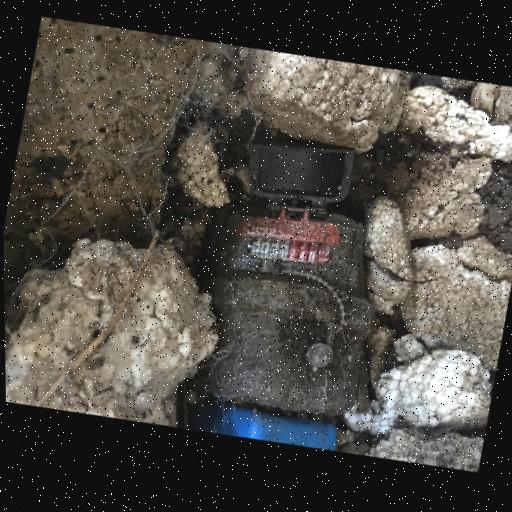0: (306, 243, 321, 266), (277, 239, 291, 261)
2: (287, 240, 301, 263)
3: (316, 244, 333, 267), (249, 238, 261, 258)
4: (297, 241, 311, 265), (259, 237, 272, 260)
9: (269, 239, 281, 261)
border_water_meter_number: (243, 228, 333, 273)
